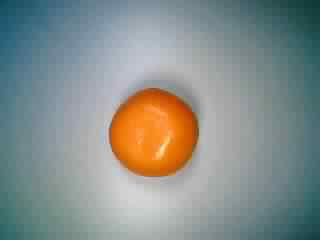orange: (105, 74, 200, 176)
